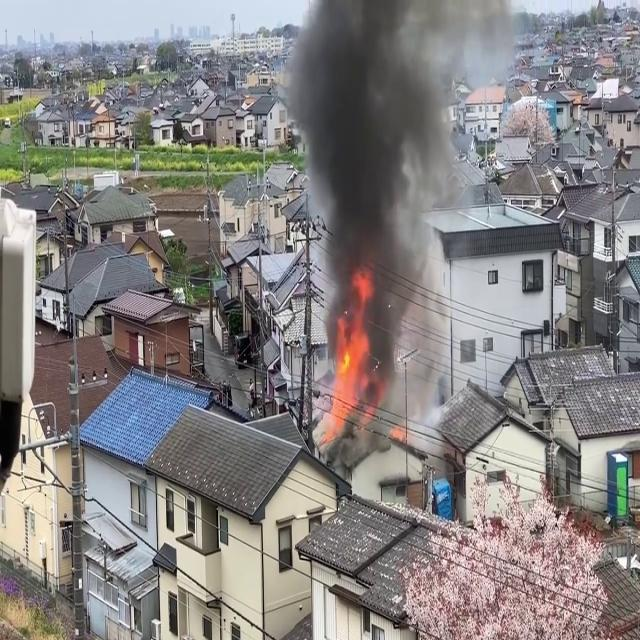Fire: (318, 294, 374, 442)
Smoke: (283, 0, 475, 409)
